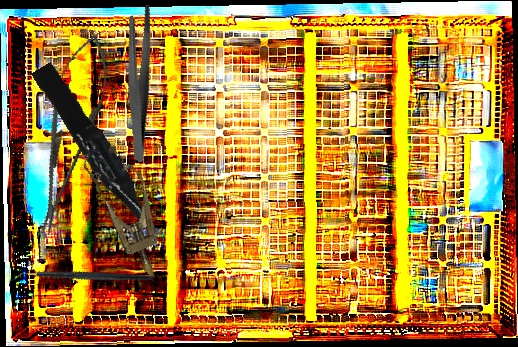Chopper: (11, 227, 154, 330)
Dressing Forceps: (91, 1, 186, 163)
Needle Holder: (20, 24, 120, 241)
Speculum: (77, 138, 178, 287)
Tissue Forceps: (31, 57, 163, 248)
